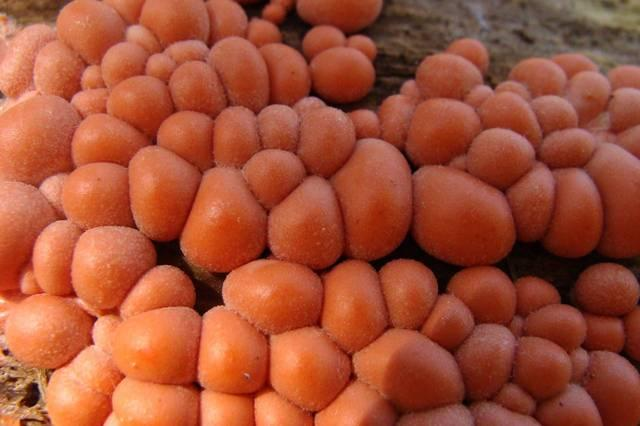Non-edible Mushroom: (0, 0, 639, 425), (411, 163, 516, 265), (220, 257, 323, 334), (109, 304, 201, 384)
